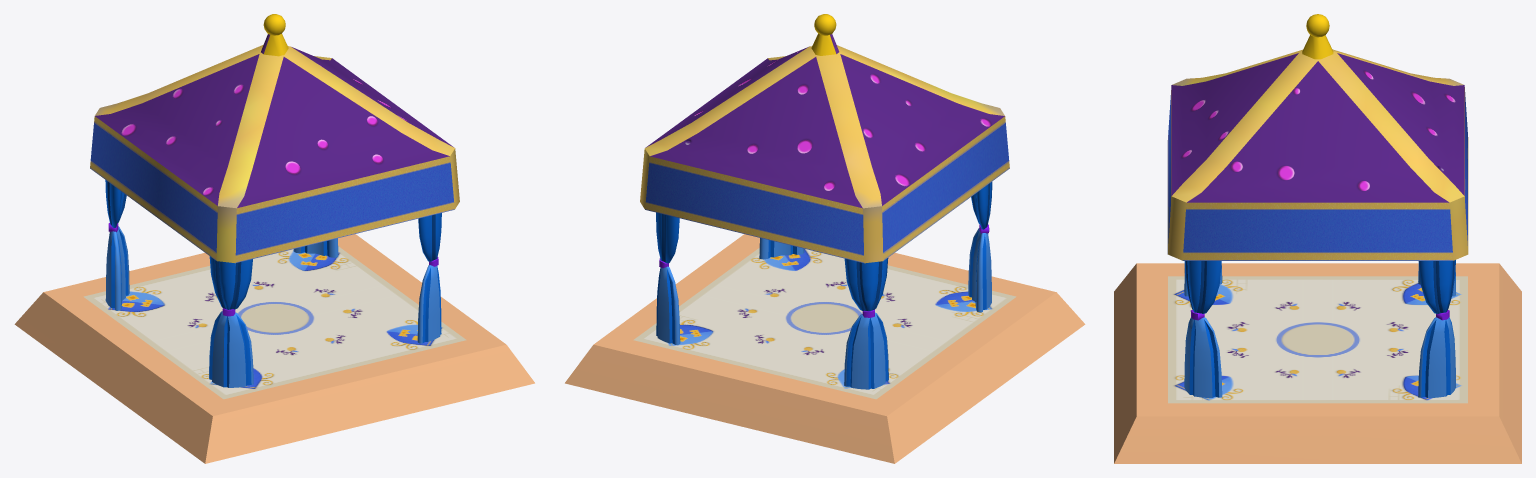
Rendered from Pavilion.fbx.
The picture shows the model from 3 angles, left to right: view 1: azimuth 30°, elevation 25°; view 2: azimuth 150°, elevation 25°; view 3: azimuth 270°, elevation 25°; orthographic projection. The views are drawn at different scales.
Parts seen in each view (by area): view 1: Pavilion_LOD0; view 2: Pavilion_LOD0; view 3: Pavilion_LOD0.
Boxes of the visible parts, x1,y1,x2,y2 form: Pavilion_LOD0: [14, 14, 534, 463]; Pavilion_LOD0: [565, 14, 1085, 463]; Pavilion_LOD0: [1114, 14, 1521, 463].
Size of what is drawn, in the model's own units: 1402 by 1374 by 1402.
